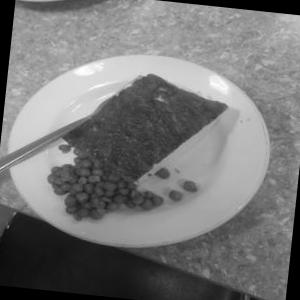casserole: (53, 57, 236, 237)
